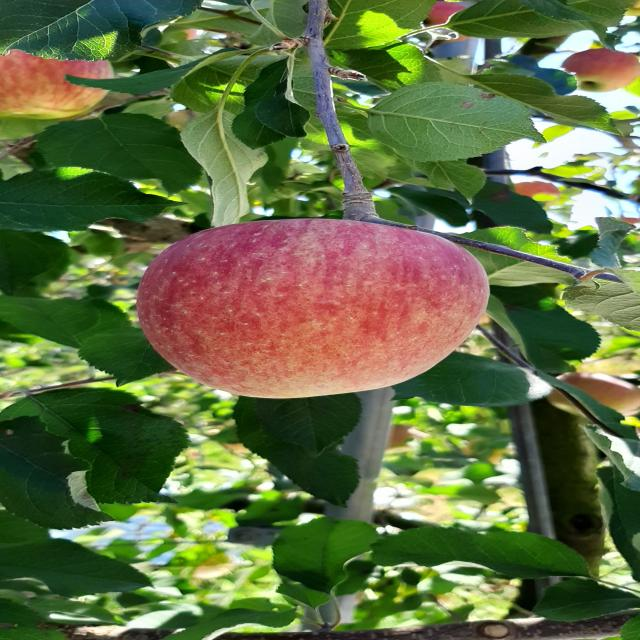fresh: (129, 211, 499, 407)
